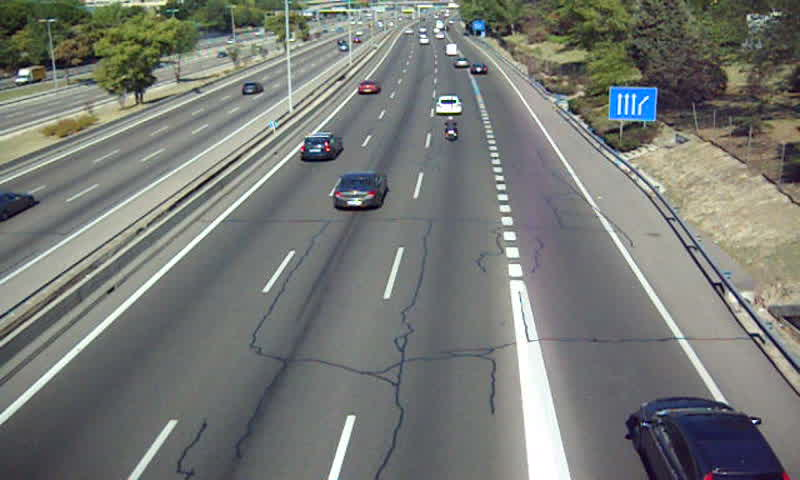car: (629, 398, 792, 480), (332, 171, 387, 209), (301, 133, 341, 161), (435, 95, 463, 116), (356, 81, 380, 96), (469, 64, 487, 75), (456, 56, 470, 68)
motorcycle: (443, 116, 460, 143)
